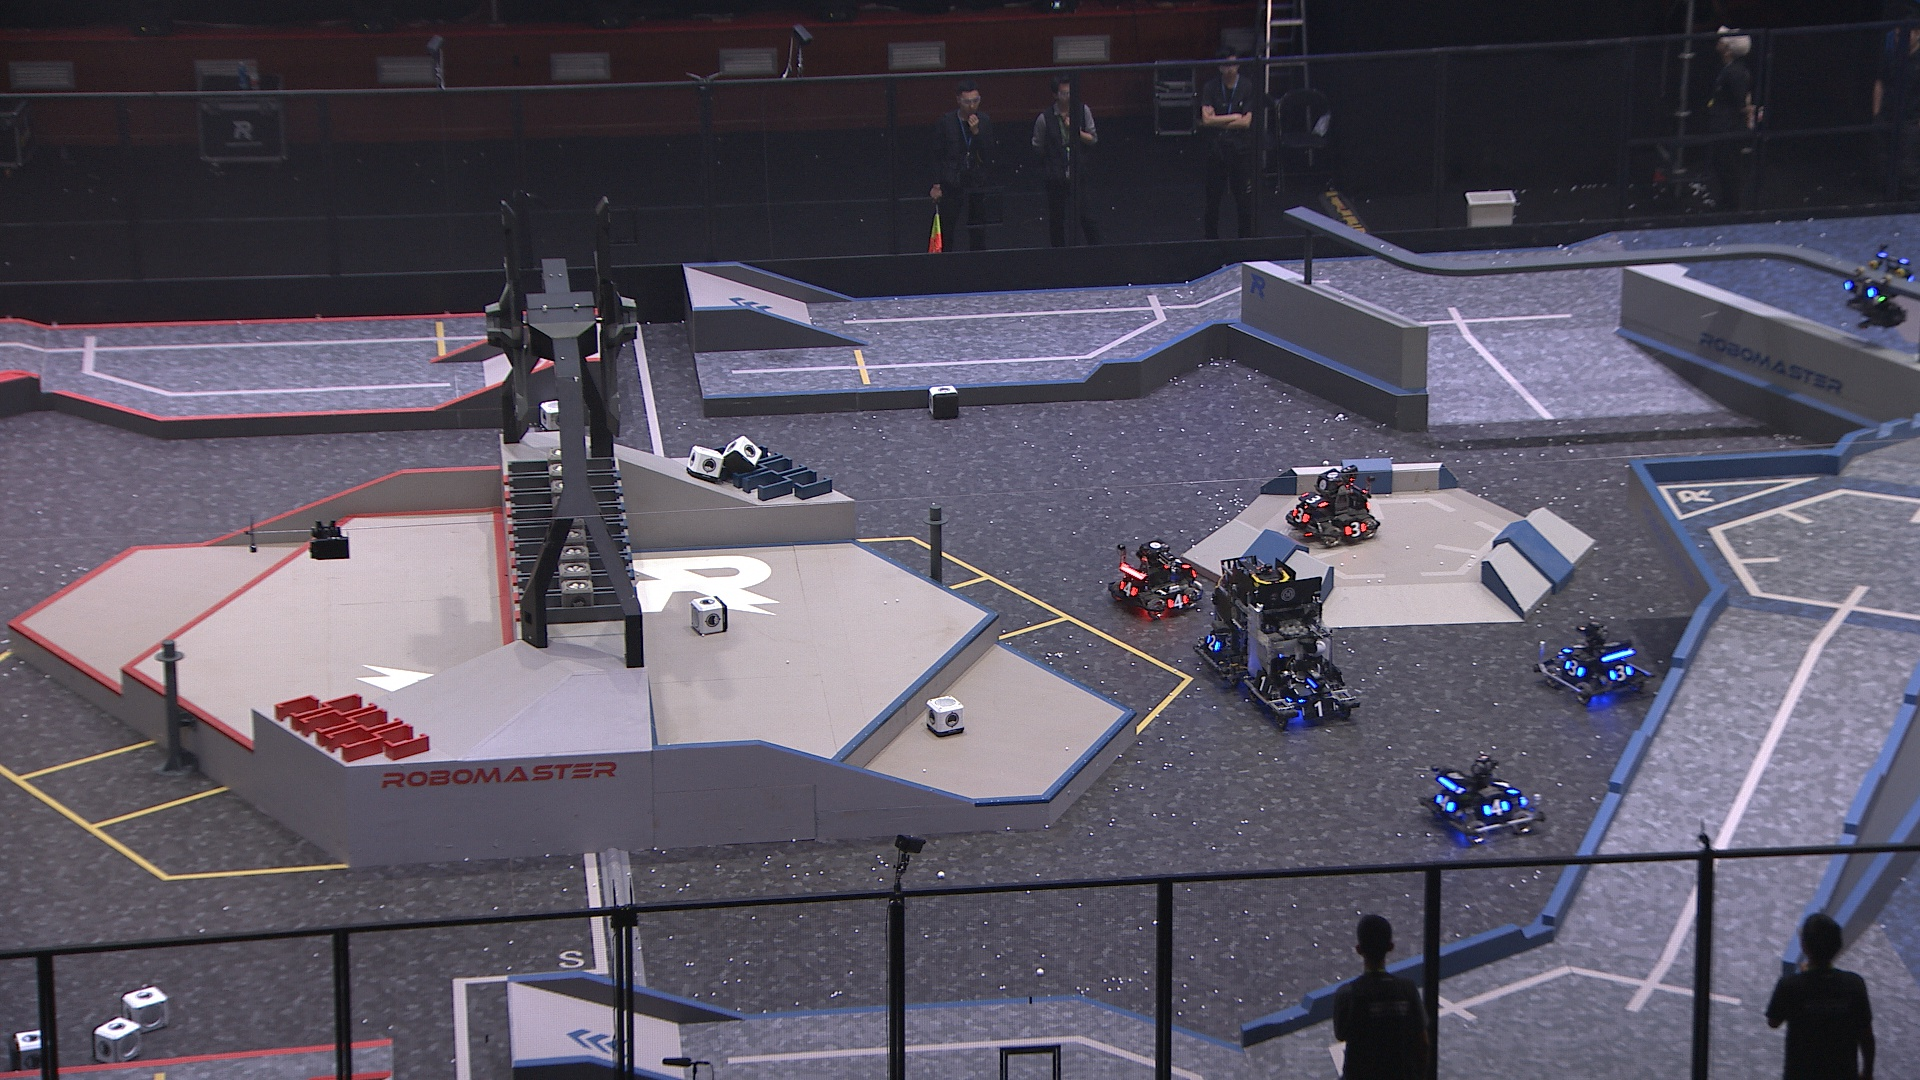armor: (1844, 277, 1878, 299), (1251, 670, 1276, 699), (1294, 680, 1332, 698), (1300, 700, 1338, 717), (1481, 796, 1510, 818), (1489, 771, 1513, 793), (1561, 659, 1585, 680), (1300, 491, 1329, 508), (1433, 793, 1455, 814), (1116, 578, 1138, 597), (1342, 520, 1367, 537), (1609, 665, 1633, 680), (1164, 593, 1189, 608), (1205, 633, 1221, 654), (1561, 642, 1584, 657), (1290, 508, 1309, 524)
car: (1240, 578, 1365, 731), (1191, 553, 1299, 684), (1419, 756, 1547, 844), (1534, 618, 1650, 705), (1282, 463, 1382, 550), (1105, 534, 1207, 618)
watcher: (1841, 247, 1917, 330)
